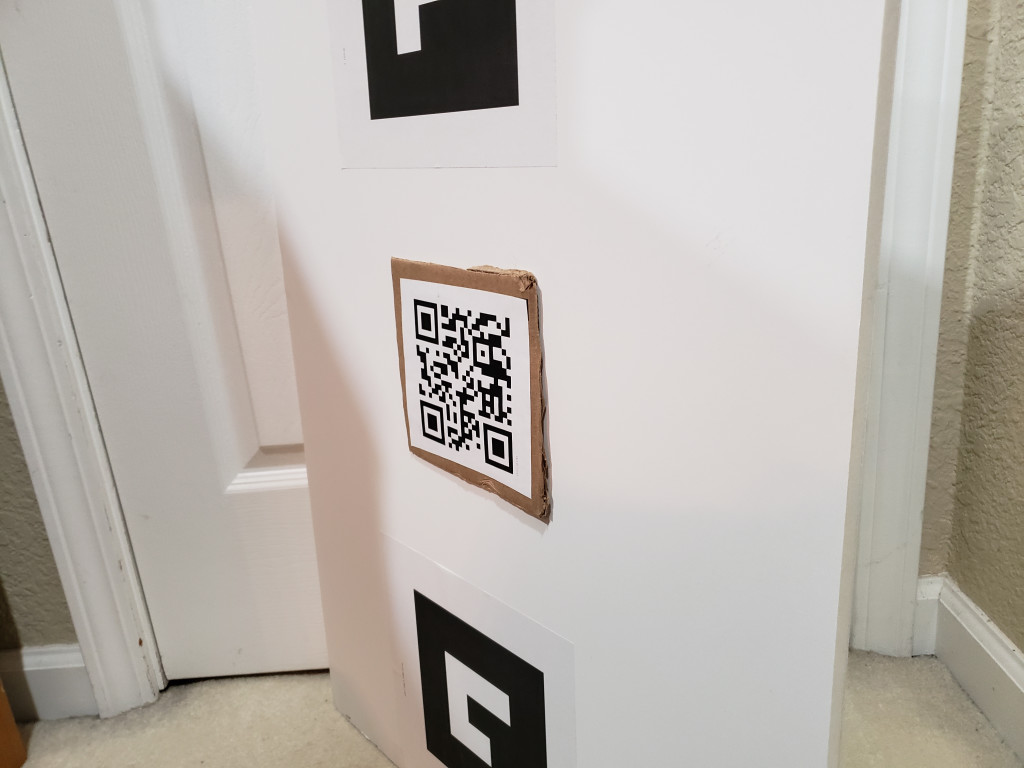QR_CODE: (400, 286, 533, 484)
